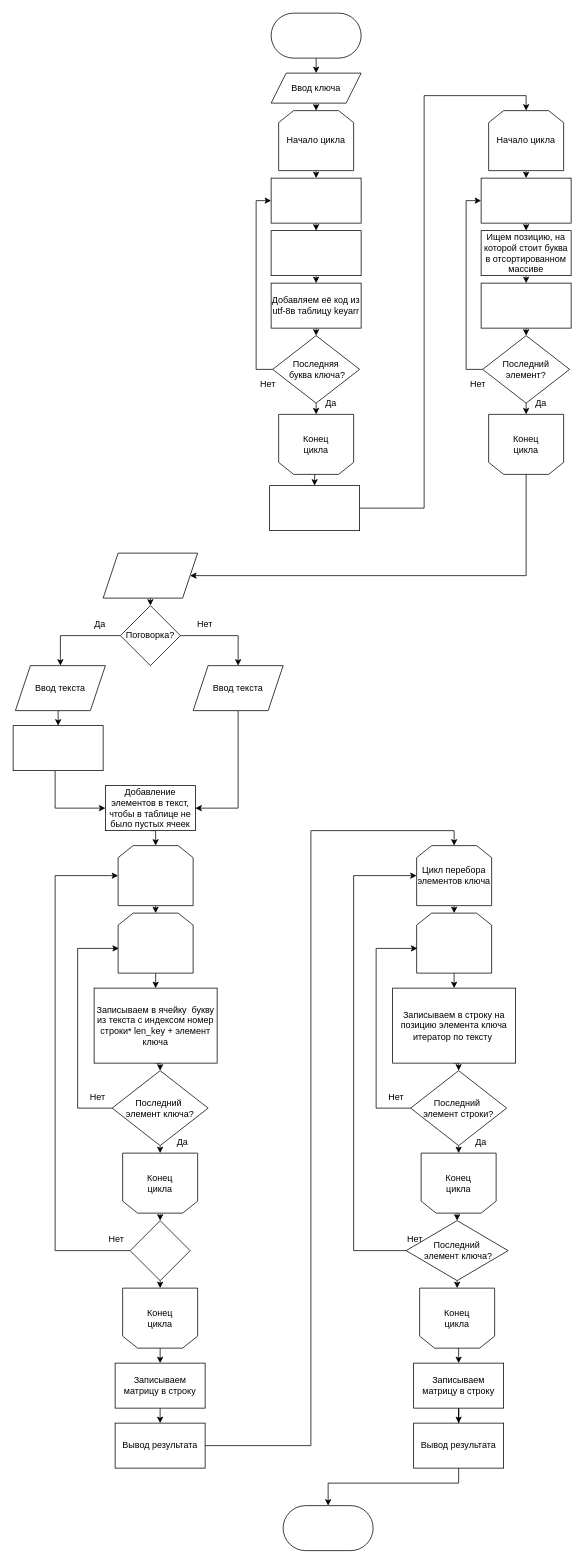
Some shapes in this 584 by 1564 pixel diagram are drawn without their labels. Here are the shapes that lost their labels. From the top down, the centre of each, then its label:
the point at 315,35: Начало
the point at 315,200: Берём букву из ключа
the point at 525,200: Берём элемент ordarr
the point at 315,253: Добавляем её код из utf-8 в массив ordarr
the point at 525,305: Добавляем в итоговый ключ key номер позиции
the point at 314,508: Сортируем ordarr
the point at 150,575: Ввод типа текста
the point at 57,748: Замена точек, запятых, удаление пробелов
the point at 155,875: Цикл перебора строк в таблице
the point at 155,942: Цикл перебора позиций в ключе
the point at 454,942: Цикл перебора позиций в строке
the point at 159,1250: Последняя строка?
the point at 327,1528: Конец
